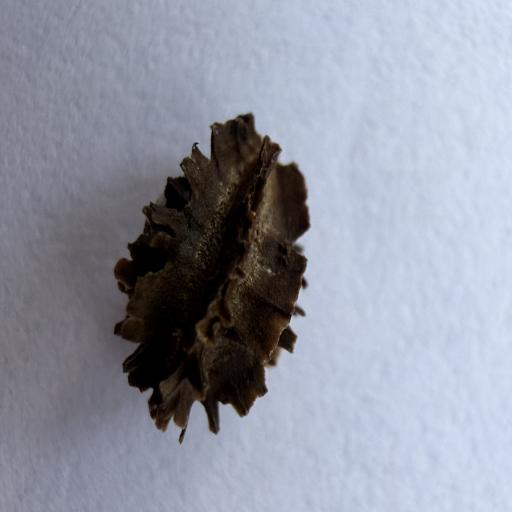papaya_seed: (108, 97, 320, 451)
